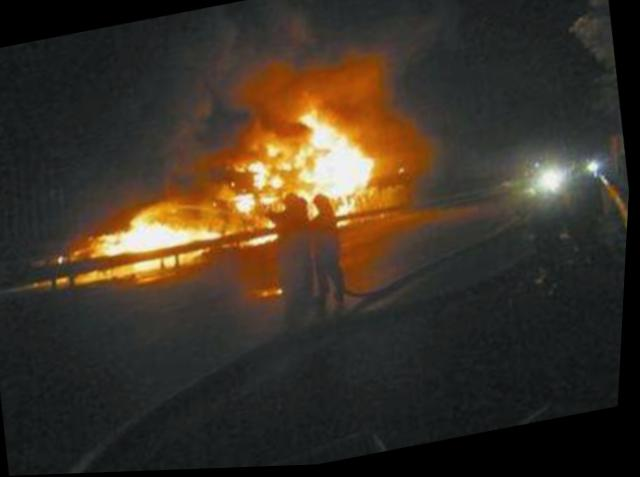fire: (73, 99, 383, 289)
